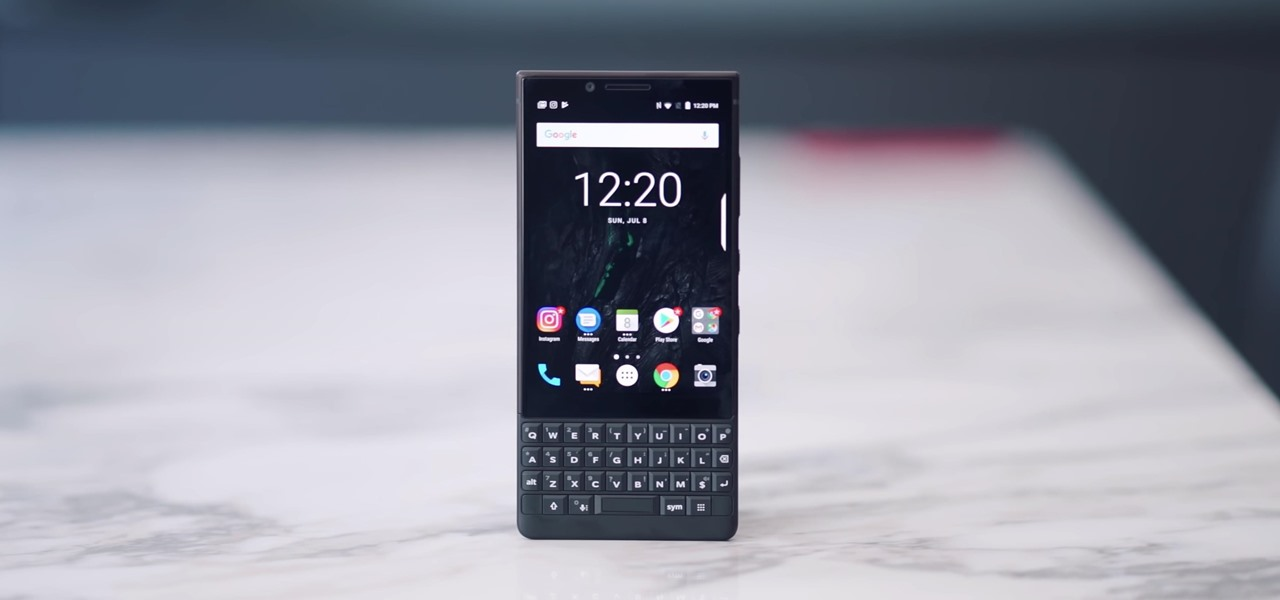phone: (505, 63, 749, 549)
